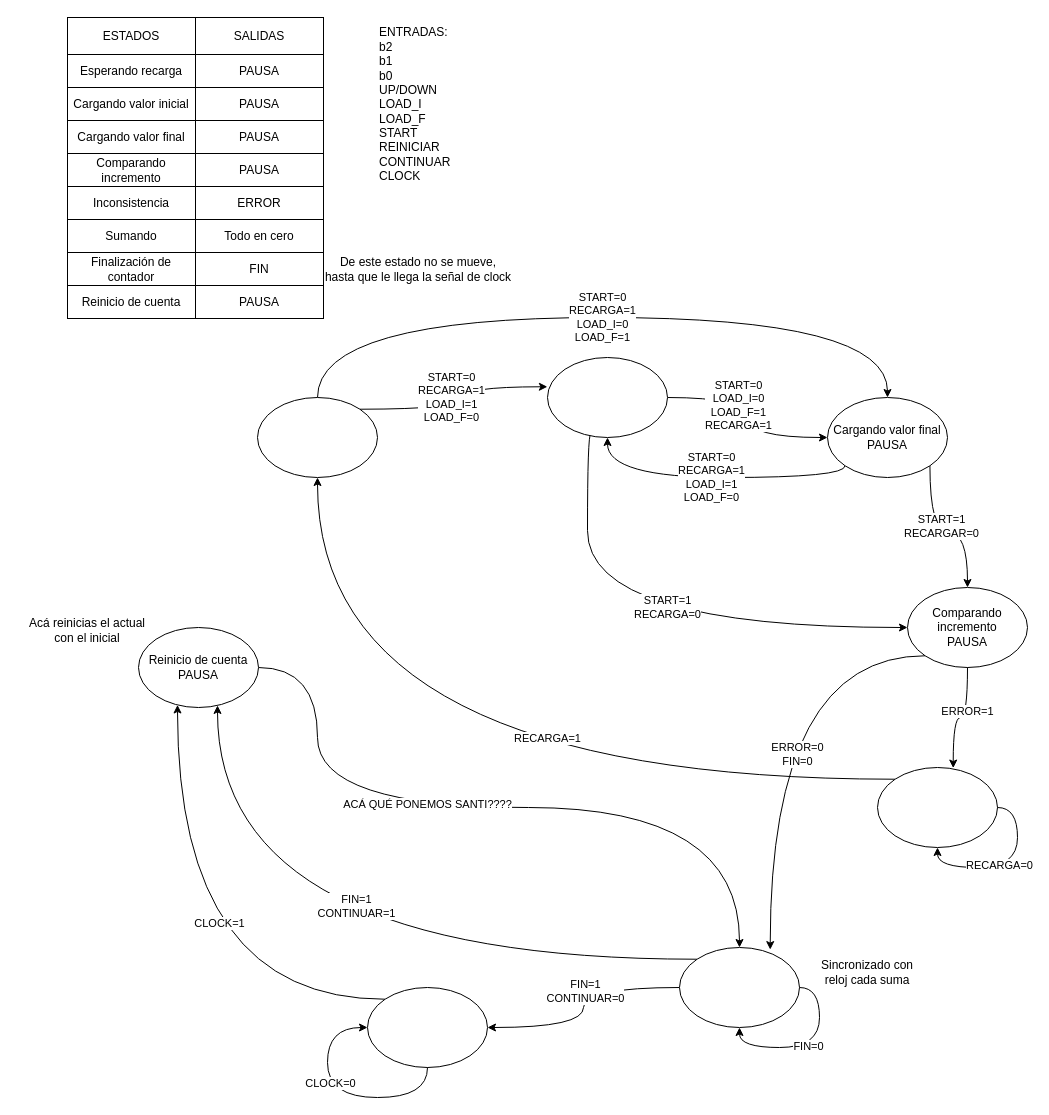
The diagram is 1049 pixels wide and 1115 high, and some of its shapes have lost their labels. The box of each missing label's shape, as (x1, y1, x2, y2) in pixels:
Cargando valor inicial PAUSA: (546, 356, 668, 438)
Esperando recarga PAUSA: (256, 396, 378, 478)
Finalización de contador FIN: (366, 986, 488, 1068)
Inconsistencia ERROR: (876, 766, 998, 848)
Sumando 0: (678, 946, 800, 1028)
